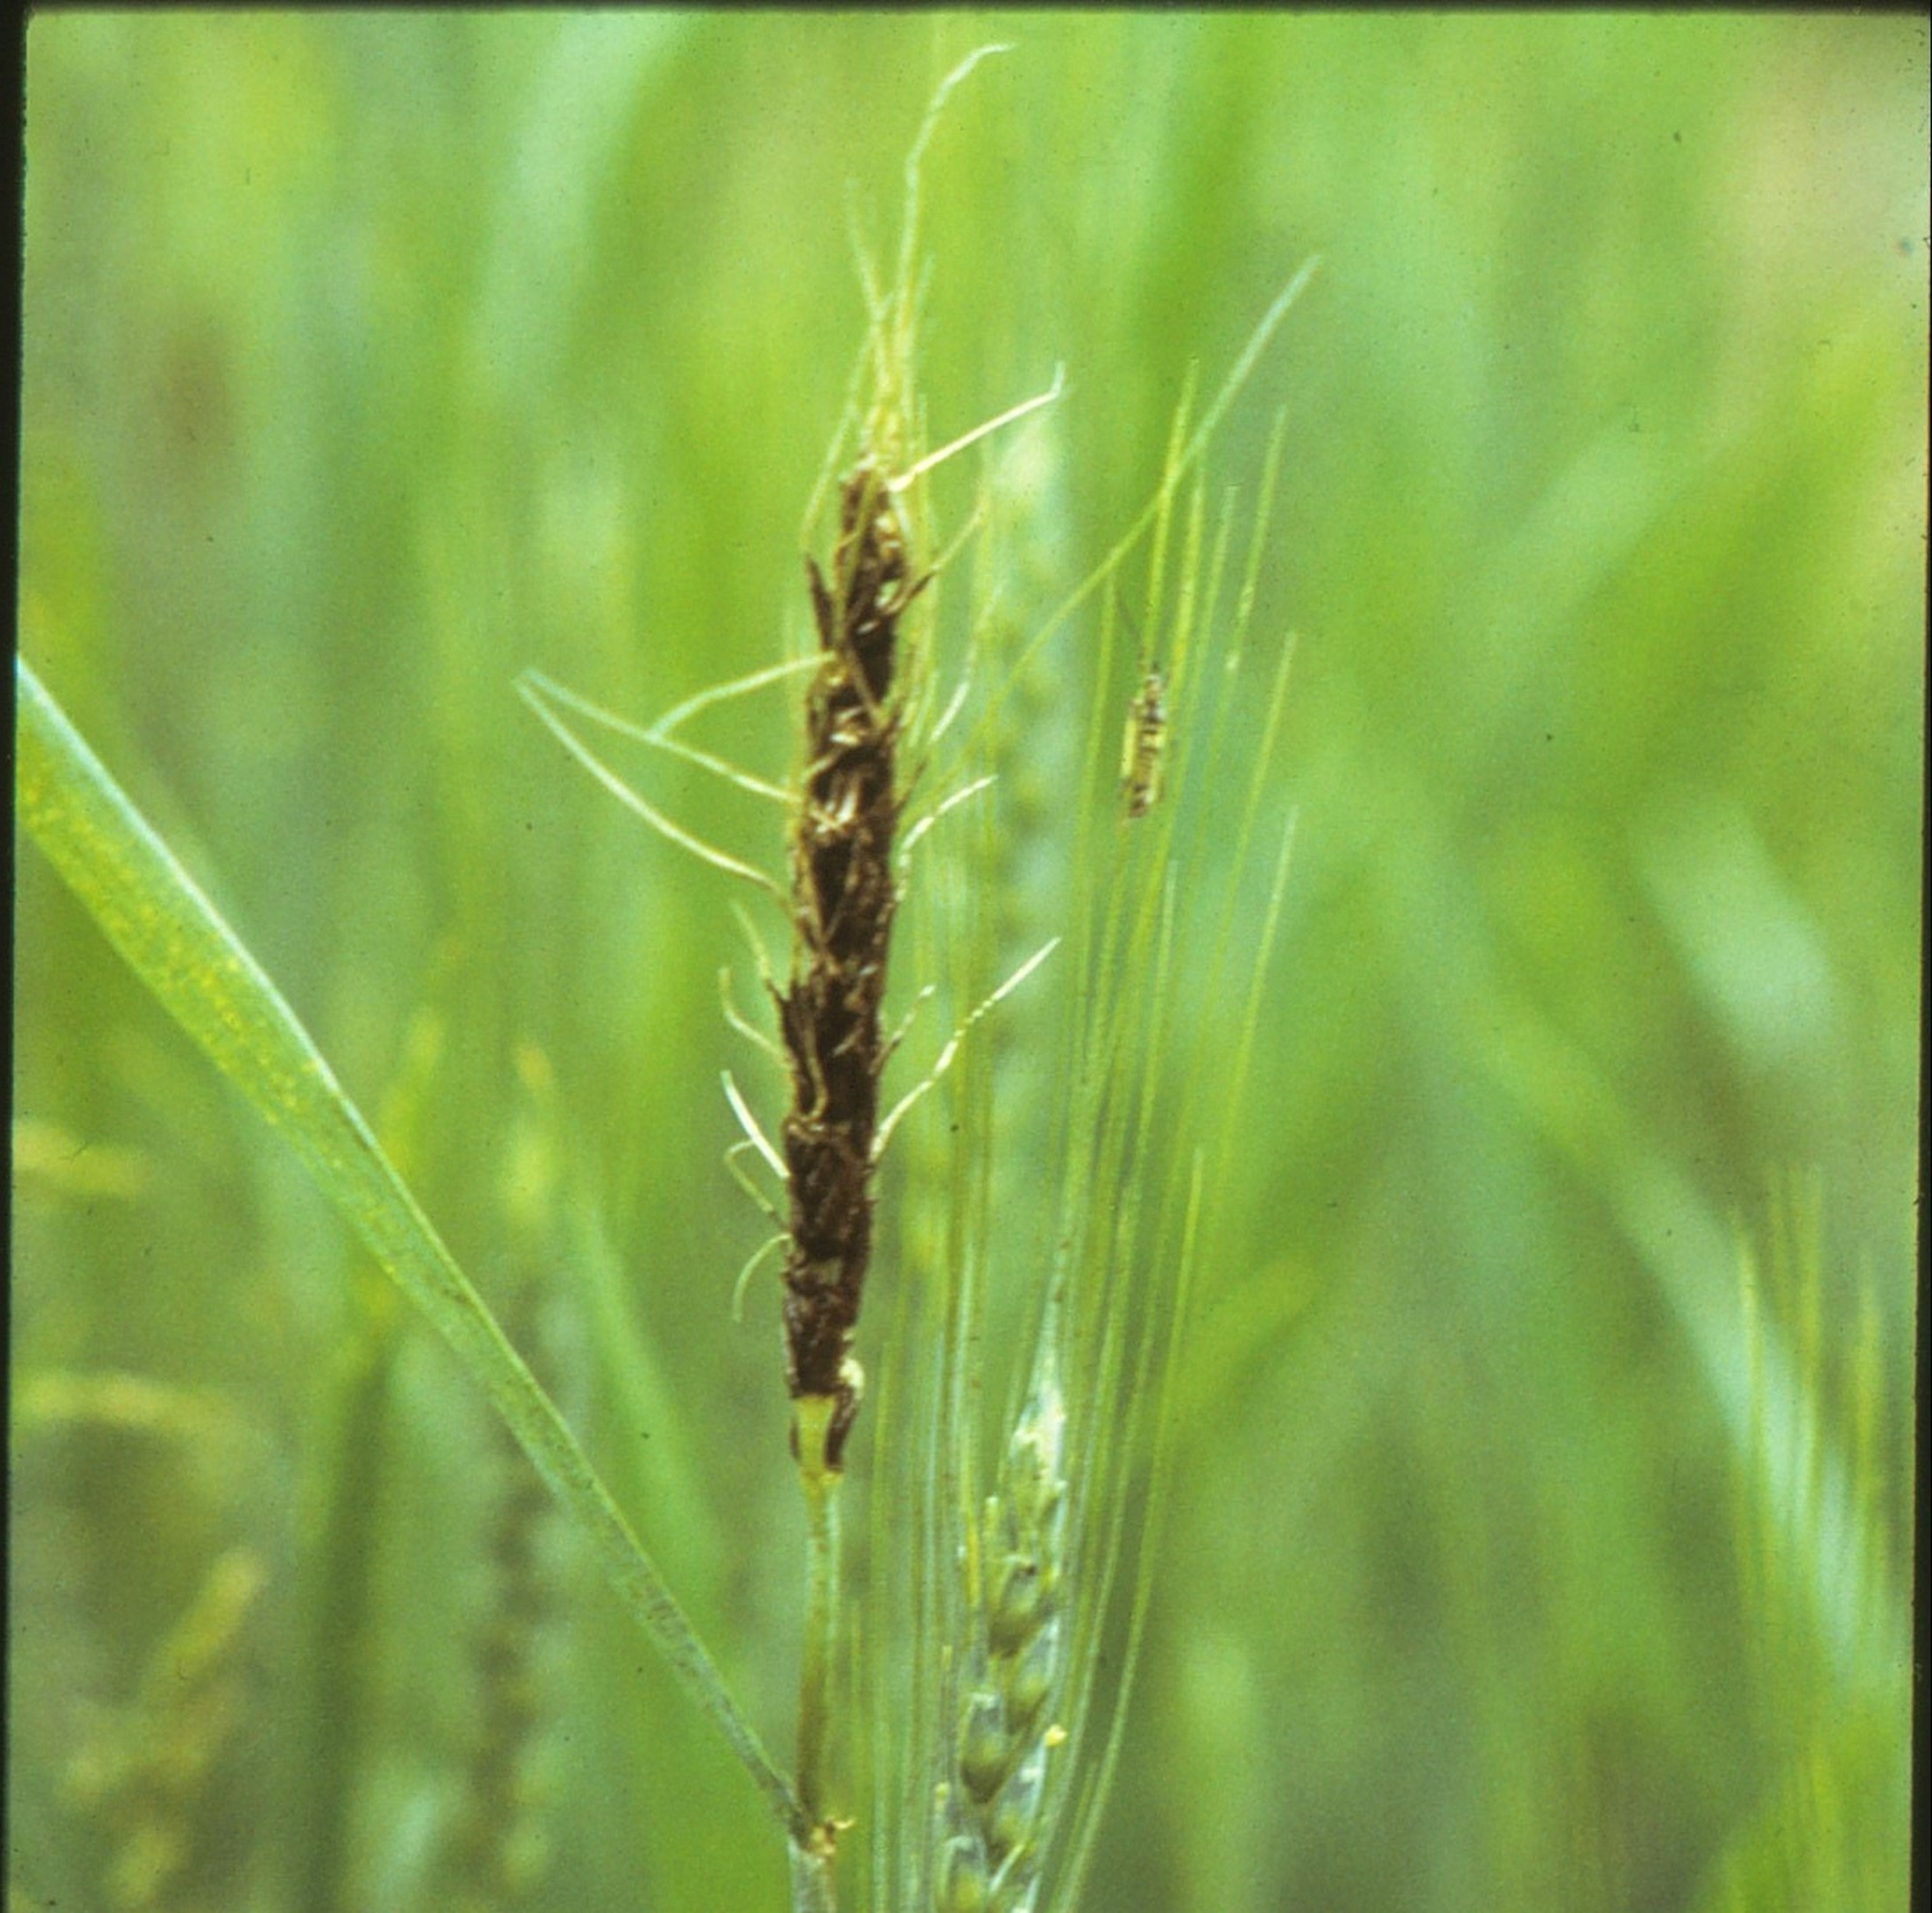Wheat Loose Smut: (734, 434, 932, 1407)
